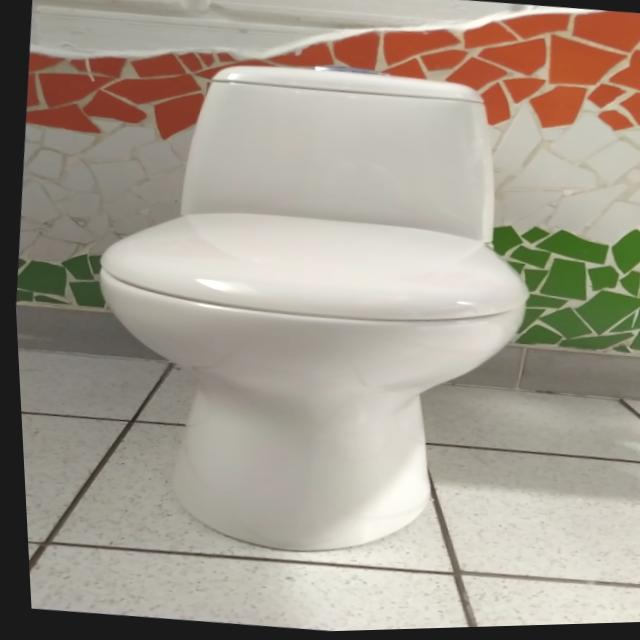toilet: (59, 41, 560, 581)
